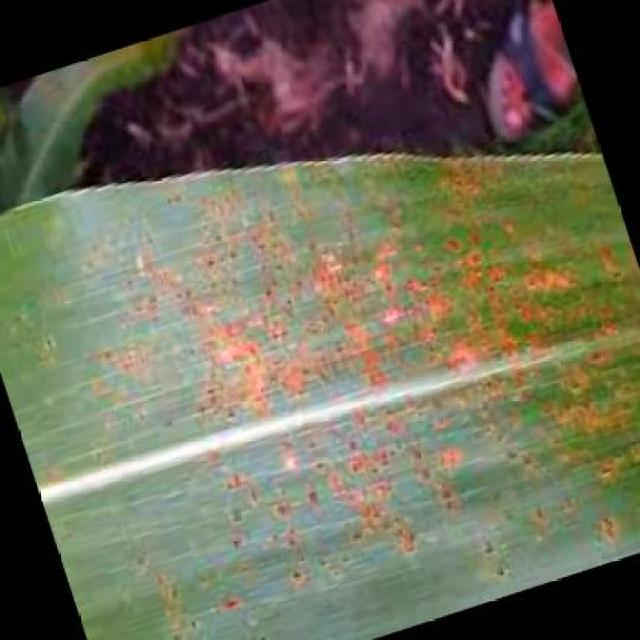Corn_Rust: (69, 128, 569, 577)
